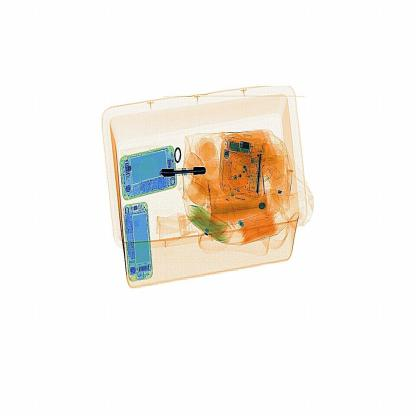knife: (160, 164, 208, 180)
